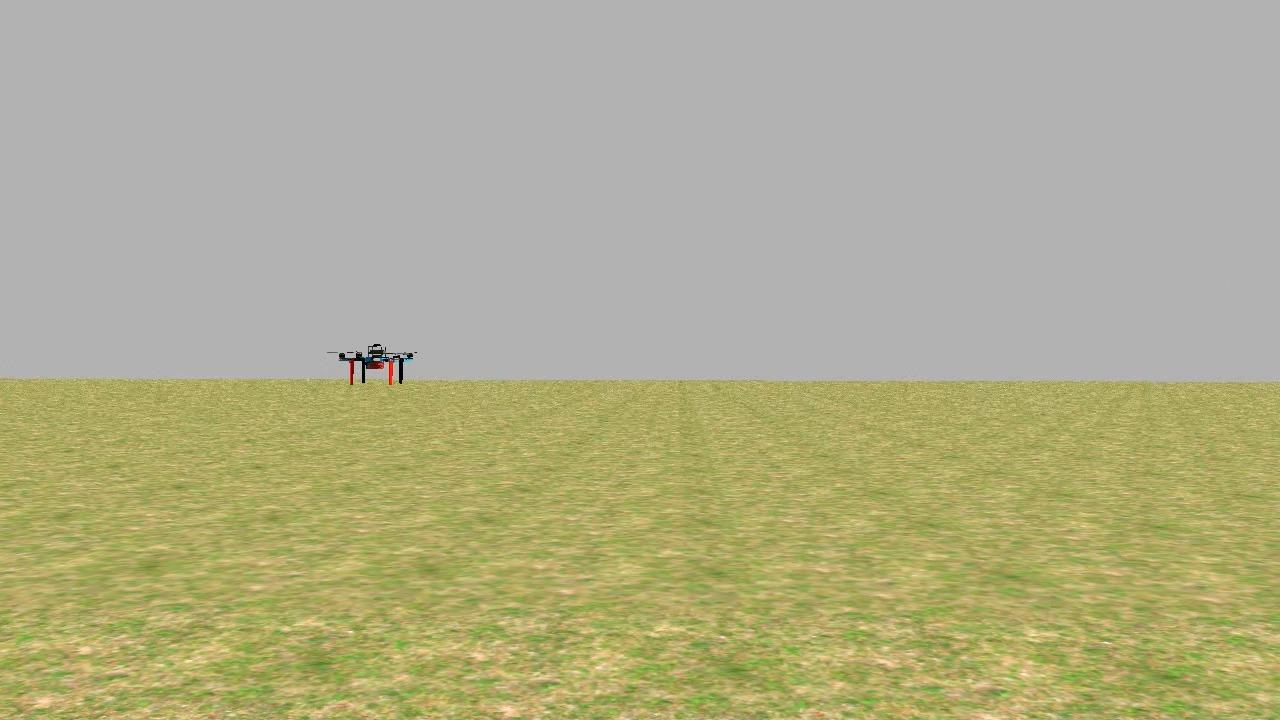UAV: (329, 342, 416, 390)
